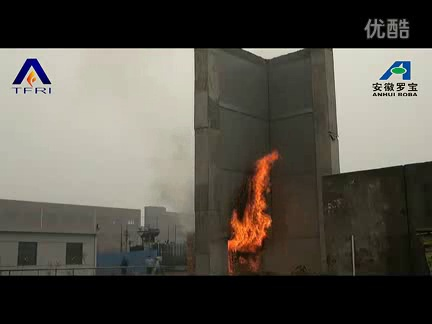fire: (218, 144, 281, 266)
